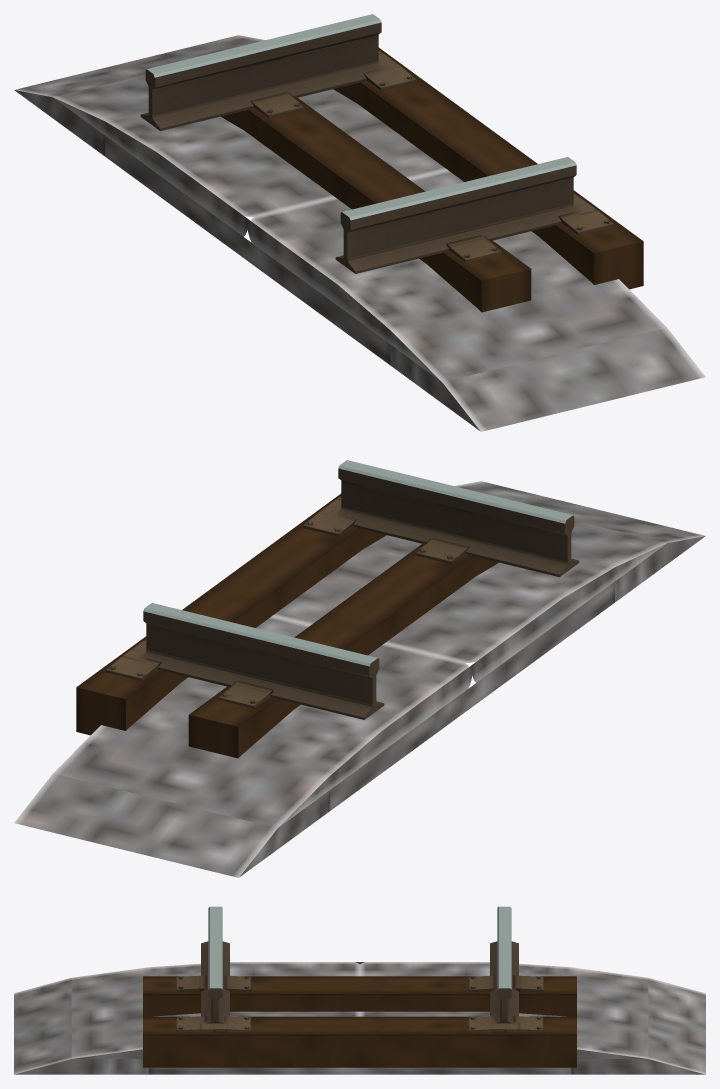
File: spsf_track_wood_1067mm.obj
The picture shows the model from 3 angles, top to bottom: view 1: azimuth 30°, elevation 25°; view 2: azimuth 150°, elevation 25°; view 3: azimuth 270°, elevation 25°; orthographic projection. The views are drawn at different scales.
Visible parts, largest first — view 1: RAIL_BASE_Cube.001, RAIL_BASE.003_RAIL_BASE.006, RAIL_RIGHT_Cube.010, RAIL_LEFT_Cube.002, RAIL_BASE.005_Cube.003; view 2: RAIL_BASE_Cube.001, RAIL_BASE.003_RAIL_BASE.006, RAIL_LEFT_Cube.002, RAIL_RIGHT_Cube.010, RAIL_BASE.005_Cube.003; view 3: RAIL_BASE_Cube.001, RAIL_BASE.003_RAIL_BASE.006, RAIL_BASE.005_Cube.003, RAIL_LEFT_Cube.002, RAIL_RIGHT_Cube.010.
Part boxes in pixels (x1,y1,x2,y2): RAIL_BASE_Cube.001: [14, 35, 705, 431]; RAIL_BASE.003_RAIL_BASE.006: [221, 47, 643, 312]; RAIL_RIGHT_Cube.010: [140, 14, 382, 131]; RAIL_LEFT_Cube.002: [335, 157, 577, 273]; RAIL_BASE.005_Cube.003: [251, 50, 614, 262]; RAIL_BASE_Cube.001: [14, 481, 705, 877]; RAIL_BASE.003_RAIL_BASE.006: [76, 493, 498, 758]; RAIL_LEFT_Cube.002: [337, 460, 579, 577]; RAIL_RIGHT_Cube.010: [142, 603, 384, 719]; RAIL_BASE.005_Cube.003: [105, 496, 468, 708]; RAIL_BASE_Cube.001: [14, 962, 705, 1074]; RAIL_BASE.003_RAIL_BASE.006: [143, 976, 576, 1067]; RAIL_BASE.005_Cube.003: [176, 975, 543, 1032]; RAIL_LEFT_Cube.002: [201, 906, 229, 1023]; RAIL_RIGHT_Cube.010: [490, 906, 518, 1023].
Bounding box in the file's own units: 1.11 × 0.4996 × 3.6.
Materials: 1 (1 with a texture image).
